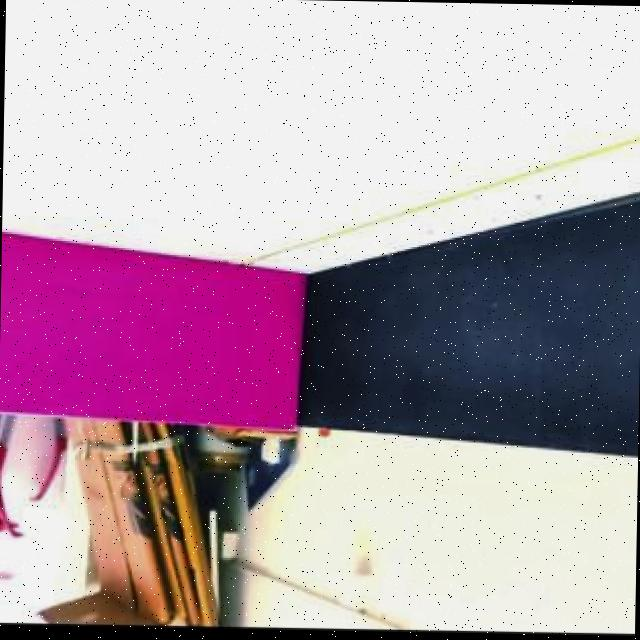xparking: (0, 249, 301, 414)
